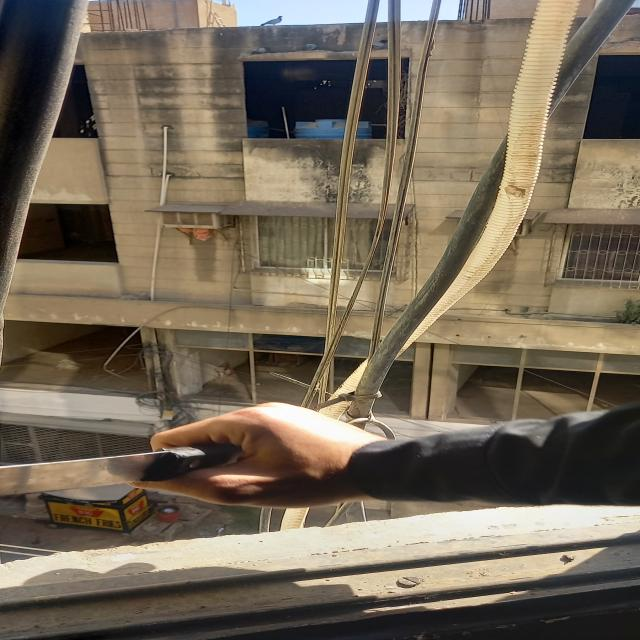Knife: (0, 406, 302, 509)
